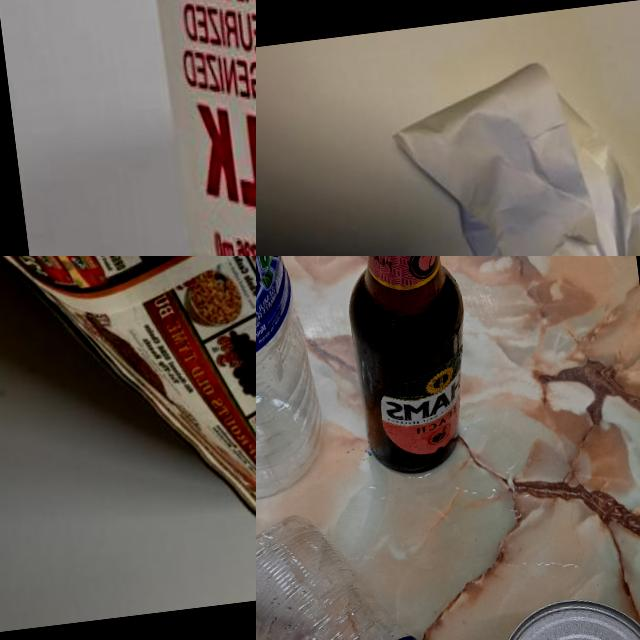caixinha: (115, 0, 256, 256)
garrafa de vidro: (332, 256, 483, 481)
garrafa plástica: (256, 494, 514, 640), (256, 256, 329, 506)
papel: (0, 256, 256, 582), (388, 51, 640, 256)
